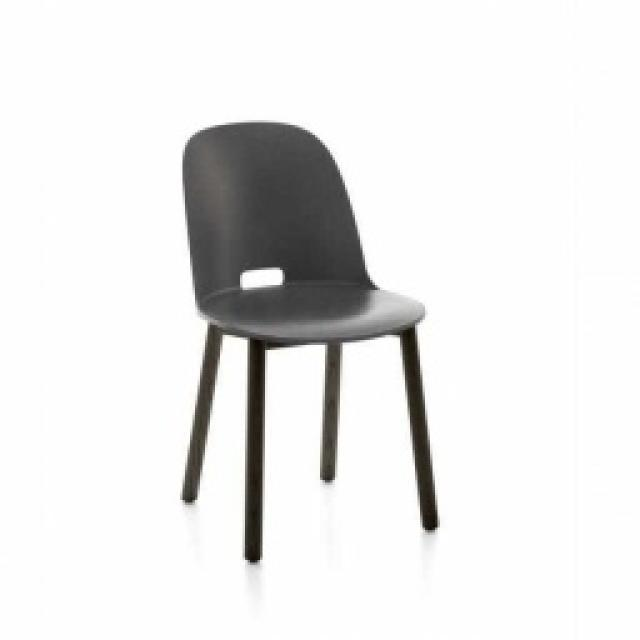sandalye: (178, 118, 440, 562)
